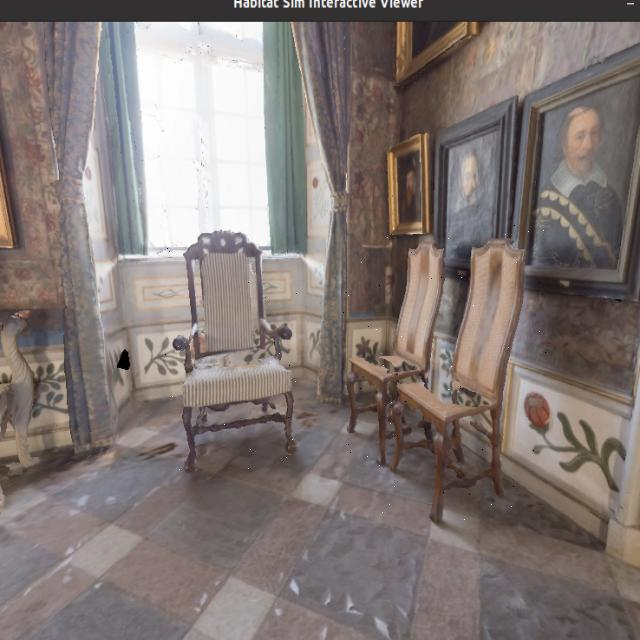chair: (379, 225, 547, 523), (164, 223, 311, 490), (342, 229, 449, 457)
